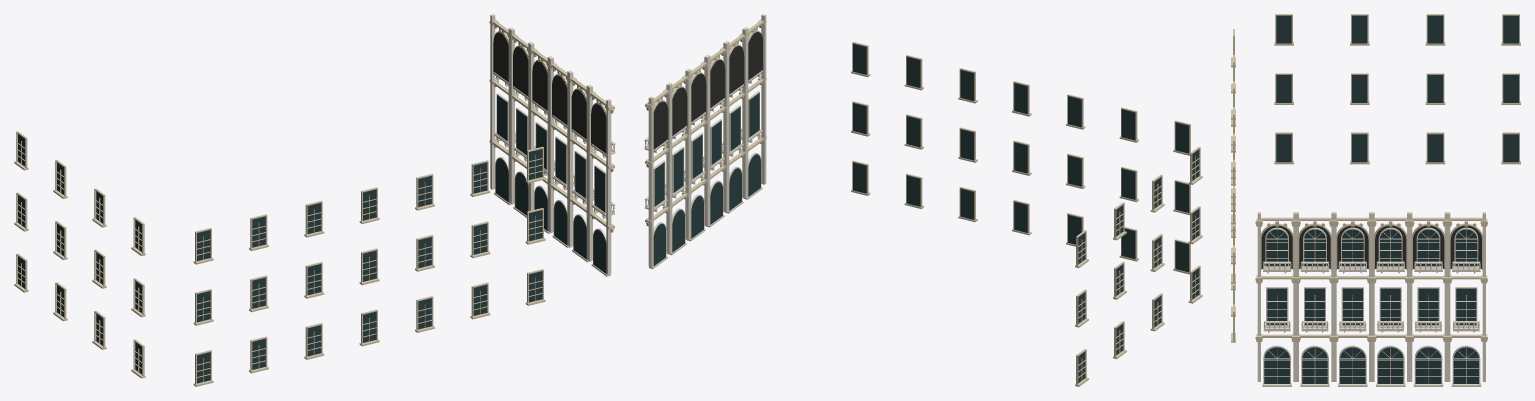
The model's file is KOL_T1_METROPOLITAN__04_Returns.fbx.
3 renders of one model, left to right at view 1: azimuth 30°, elevation 25°; view 2: azimuth 150°, elevation 25°; view 3: azimuth 270°, elevation 25°, orthographic. The views are drawn at different scales.
Visible parts, largest first — view 1: KOL_T1_METROPOLITAN__04_Returns__KOL_T1_HeritageGlass, KOL_T1_METROPOLITAN__04_Returns__KOL_T1_HeritageCream, KOL_T1_METROPOLITAN__04_Returns__KOL_T1_HeritageWhite.001, KOL_T1_METROPOLITAN__04_Returns__KOL_T1_HeritageWhite, KOL_T1_METROPOLITAN__04_Returns__KOL_T1_HeritageDark, KOL_T1_METROPOLITAN__04_Returns__KOL_T1_HeritageCream.001; view 2: KOL_T1_METROPOLITAN__04_Returns__KOL_T1_HeritageGlass, KOL_T1_METROPOLITAN__04_Returns__KOL_T1_HeritageCream, KOL_T1_METROPOLITAN__04_Returns__KOL_T1_HeritageWhite, KOL_T1_METROPOLITAN__04_Returns__KOL_T1_HeritageWhite.001, KOL_T1_METROPOLITAN__04_Returns__KOL_T1_HeritageDark, KOL_T1_METROPOLITAN__04_Returns__KOL_T1_HeritageCream.001; view 3: KOL_T1_METROPOLITAN__04_Returns__KOL_T1_HeritageGlass, KOL_T1_METROPOLITAN__04_Returns__KOL_T1_HeritageWhite, KOL_T1_METROPOLITAN__04_Returns__KOL_T1_HeritageCream, KOL_T1_METROPOLITAN__04_Returns__KOL_T1_HeritageWhite.001, KOL_T1_METROPOLITAN__04_Returns__KOL_T1_HeritageDark, KOL_T1_METROPOLITAN__04_Returns__KOL_T1_HeritageCream.001.
Boxes of the visible parts, x1,y1,x2,y2 form: KOL_T1_METROPOLITAN__04_Returns__KOL_T1_HeritageGlass: [18, 95, 606, 383]; KOL_T1_METROPOLITAN__04_Returns__KOL_T1_HeritageCream: [14, 19, 614, 386]; KOL_T1_METROPOLITAN__04_Returns__KOL_T1_HeritageWhite.001: [549, 57, 615, 276]; KOL_T1_METROPOLITAN__04_Returns__KOL_T1_HeritageWhite: [490, 14, 574, 247]; KOL_T1_METROPOLITAN__04_Returns__KOL_T1_HeritageDark: [493, 32, 606, 155]; KOL_T1_METROPOLITAN__04_Returns__KOL_T1_HeritageCream.001: [131, 217, 145, 372]; KOL_T1_METROPOLITAN__04_Returns__KOL_T1_HeritageGlass: [653, 43, 1198, 382]; KOL_T1_METROPOLITAN__04_Returns__KOL_T1_HeritageCream: [645, 19, 1202, 386]; KOL_T1_METROPOLITAN__04_Returns__KOL_T1_HeritageWhite: [644, 55, 724, 268]; KOL_T1_METROPOLITAN__04_Returns__KOL_T1_HeritageWhite.001: [706, 14, 766, 224]; KOL_T1_METROPOLITAN__04_Returns__KOL_T1_HeritageDark: [653, 32, 762, 151]; KOL_T1_METROPOLITAN__04_Returns__KOL_T1_HeritageCream.001: [1188, 147, 1202, 297]; KOL_T1_METROPOLITAN__04_Returns__KOL_T1_HeritageGlass: [1264, 15, 1518, 383]; KOL_T1_METROPOLITAN__04_Returns__KOL_T1_HeritageWhite: [1338, 212, 1485, 386]; KOL_T1_METROPOLITAN__04_Returns__KOL_T1_HeritageCream: [1231, 14, 1520, 342]; KOL_T1_METROPOLITAN__04_Returns__KOL_T1_HeritageWhite.001: [1257, 212, 1372, 386]; KOL_T1_METROPOLITAN__04_Returns__KOL_T1_HeritageDark: [1261, 225, 1481, 268]; KOL_T1_METROPOLITAN__04_Returns__KOL_T1_HeritageCream.001: [1274, 14, 1293, 104].
Size of the model in its own units: 152 by 55.27 by 84.25.
